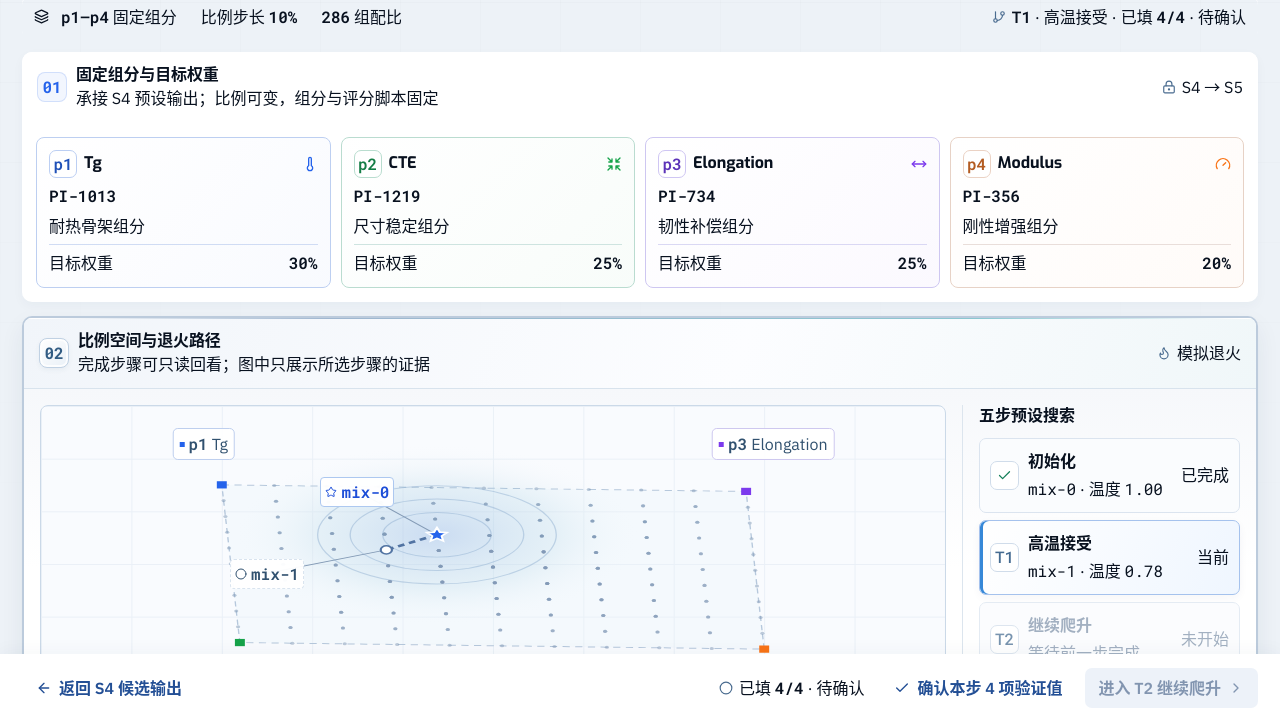
it: S5 配比搜索工作台 › 预填四项仍需确认；修改取消确认，空值就地报错并阻断
Expected: the button "进入 T2 继续爬升" is disabled, x1=1085 y1=668 x2=1258 y2=708
Click the button "确认本步 4 项验证值" at (978, 688), box x1=880 y1=668 x2=1077 y2=708
(page scrolled)
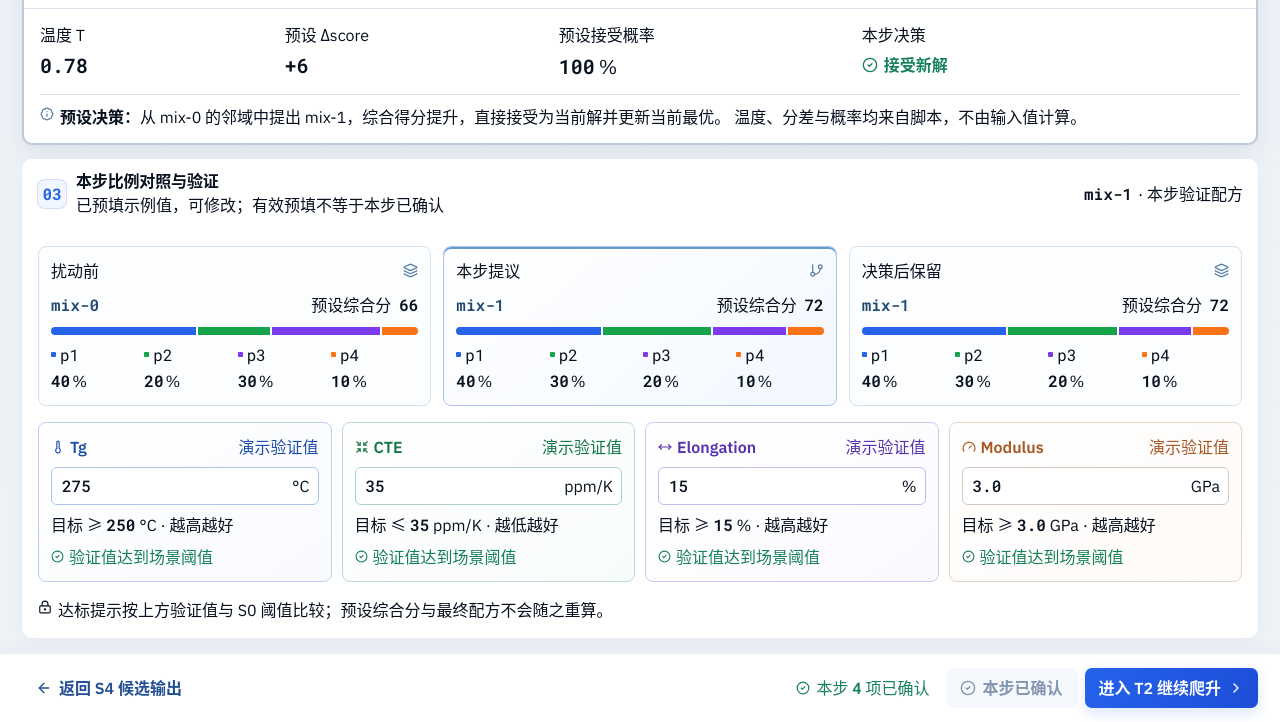
Now the button "进入 T2 继续爬升" is enabled, box x1=1085 y1=668 x2=1258 y2=708
Clear the number field labelled "Tg 演示验证值" at (172, 486), box x1=52 y1=468 x2=292 y2=504
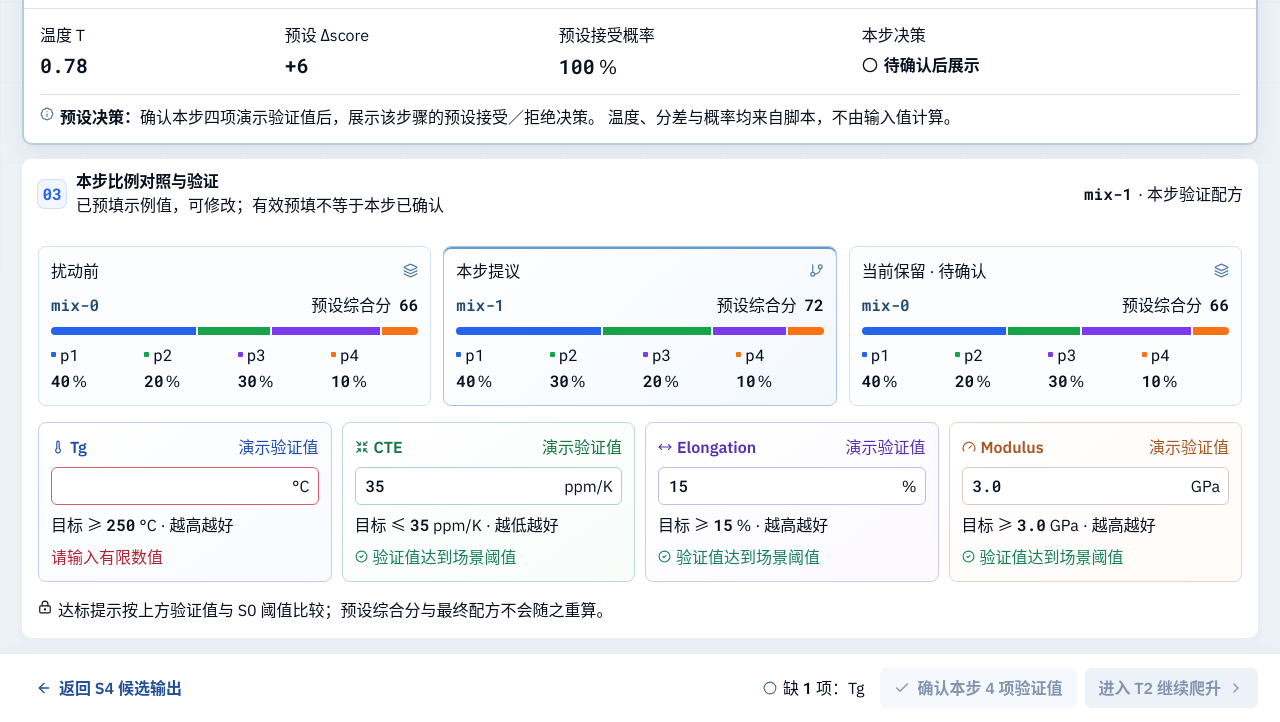
Now the button "确认本步 4 项验证值" is disabled, box x1=880 y1=668 x2=1077 y2=708
Now the message "请输入有限数值" is shown, box x1=51 y1=546 x2=163 y2=566
Now the button "进入 T2 继续爬升" is disabled, box x1=1085 y1=668 x2=1258 y2=708
Type "999" into the number field labelled "Tg 演示验证值" at (172, 486), box x1=52 y1=468 x2=292 y2=504
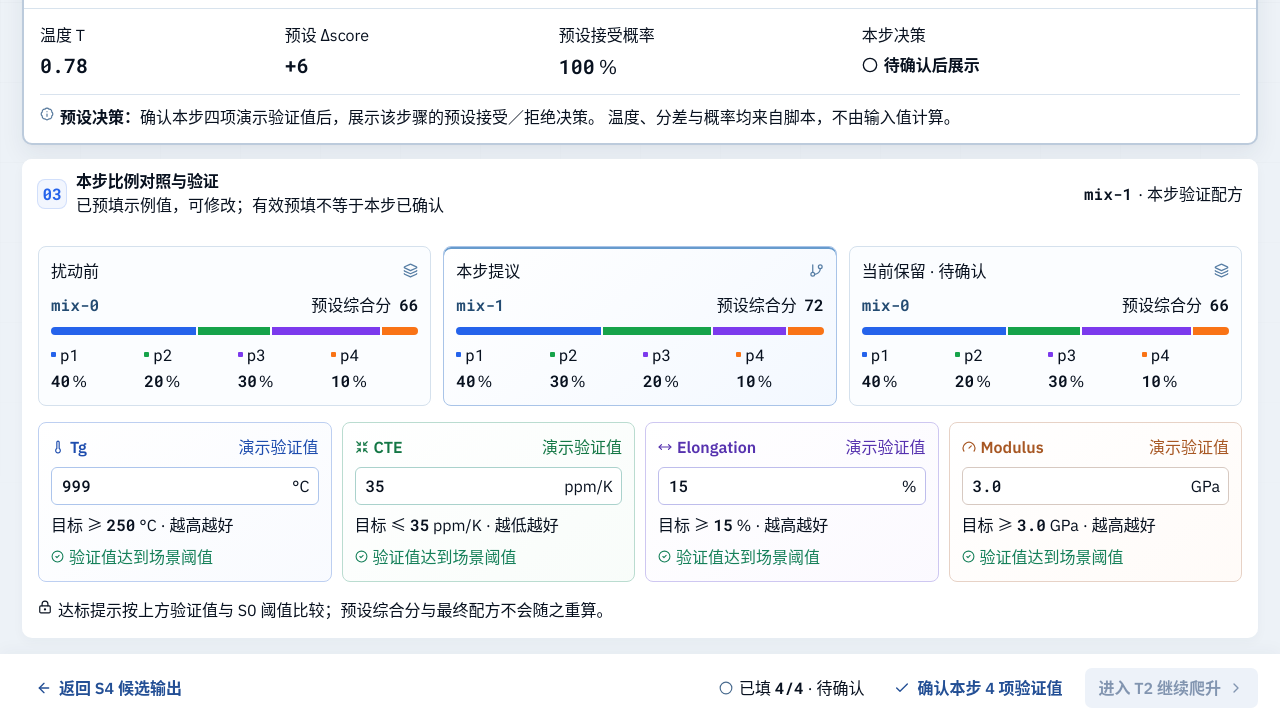
Now the button "进入 T2 继续爬升" is disabled, box x1=1085 y1=668 x2=1258 y2=708
Now the element named "T1 预设决策" shows "待确认后展示", box x1=884 y1=55 x2=980 y2=75
Now the button "确认本步 4 项验证值" is enabled
Click the button "确认本步 4 项验证值" at (978, 688), box x1=880 y1=668 x2=1077 y2=708
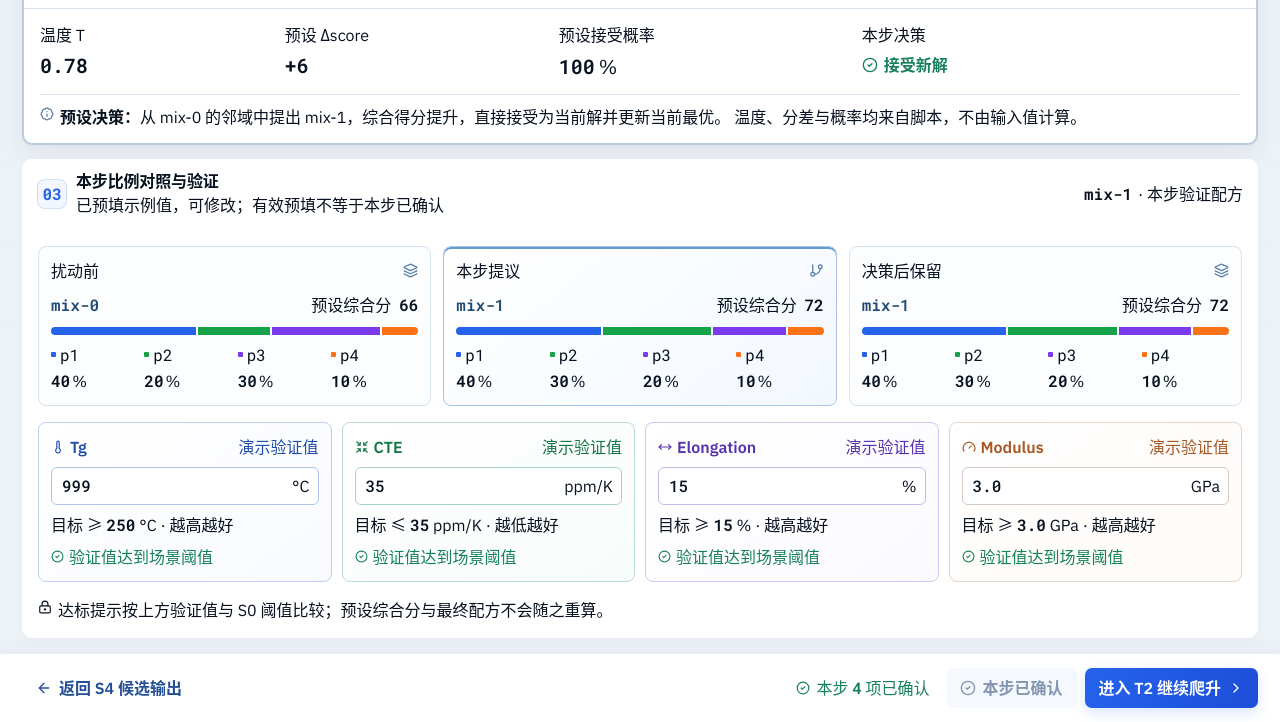
Click the button "进入 T2 继续爬升" at (1171, 688), box x1=1085 y1=668 x2=1258 y2=708
(page scrolled)
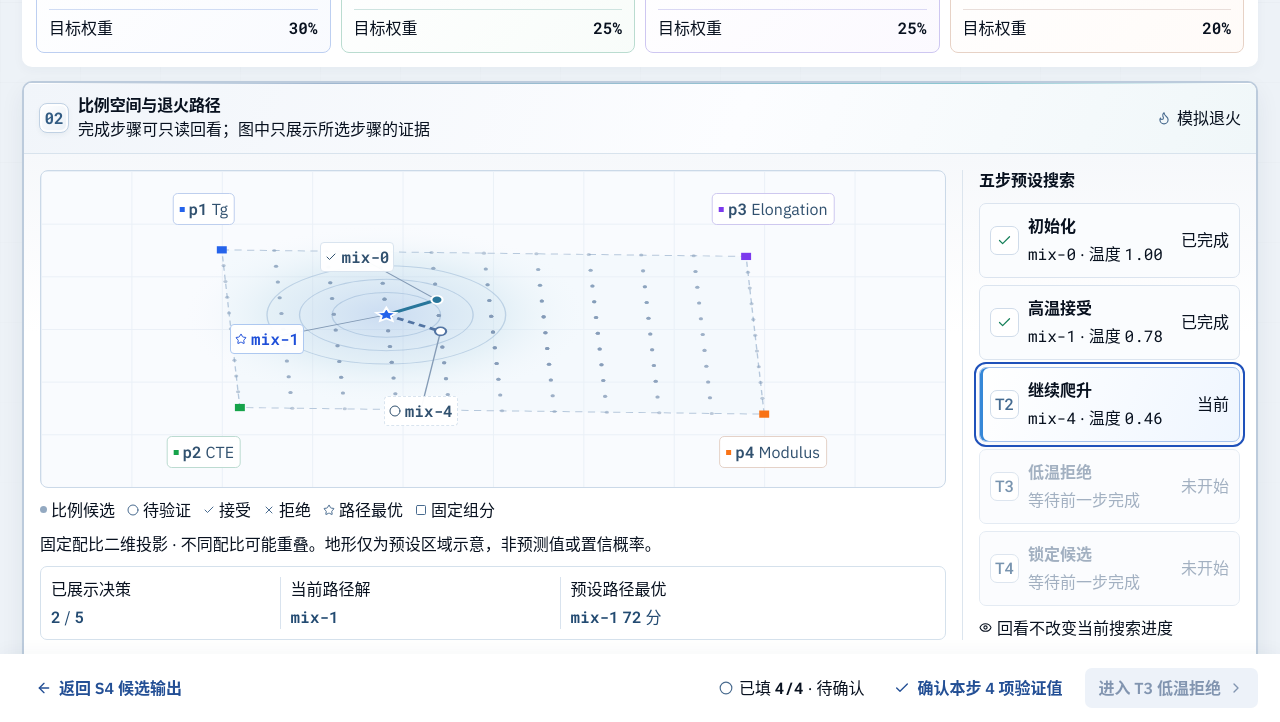
Click the button with aria-label "查看 T1 高温接受" at (1060, 308), box x1=979 y1=285 x2=1240 y2=360
(page scrolled)
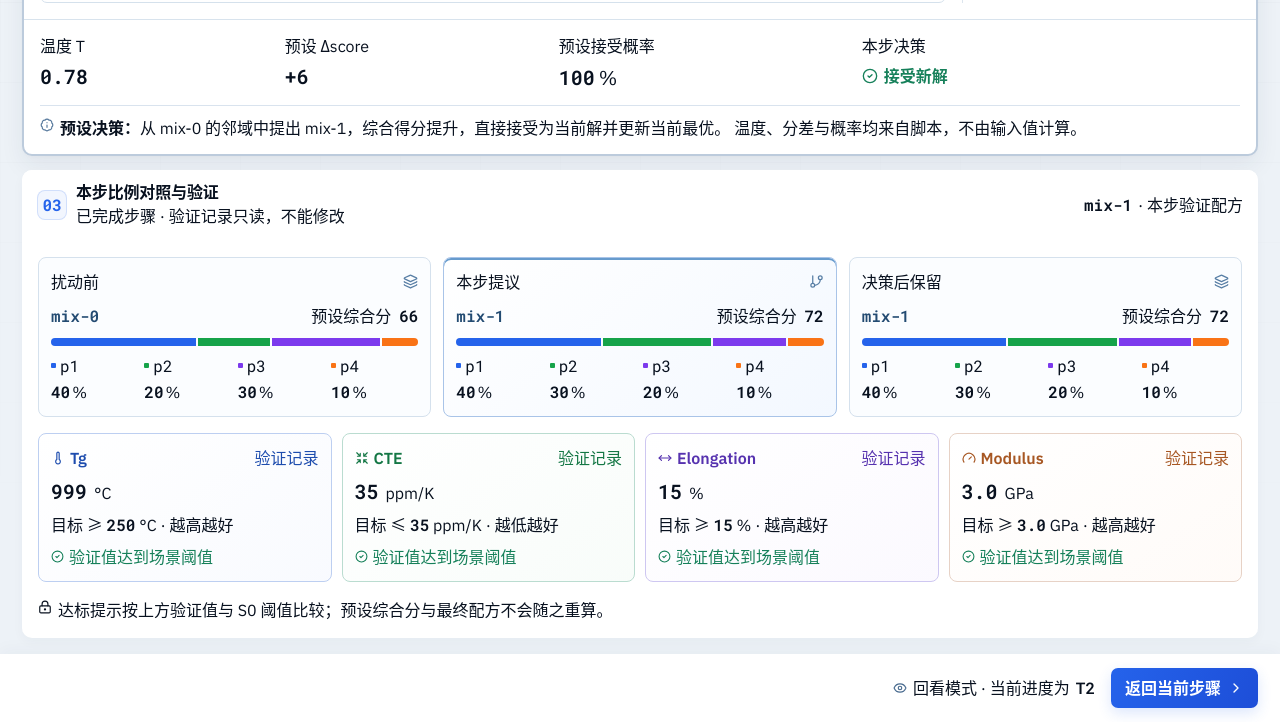
Now the element with class "ht-s5-readonly-value" shows "999", box x1=51 y1=478 x2=87 y2=504
